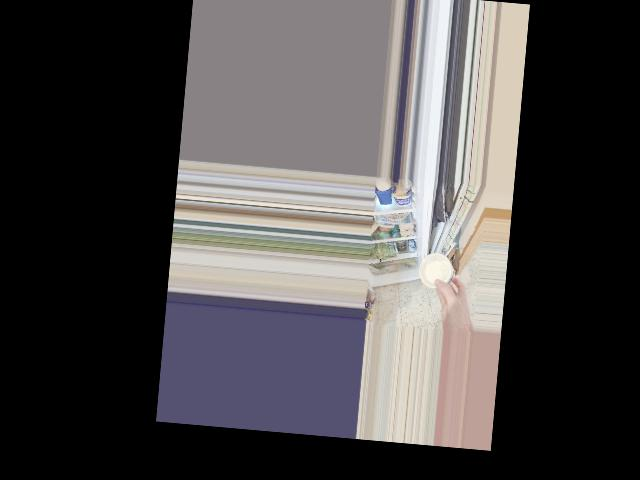cotage: (420, 252, 458, 292)
